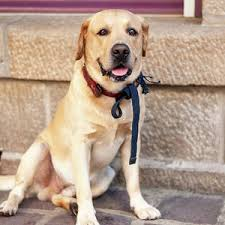dog_sitting: (1, 9, 161, 222)
